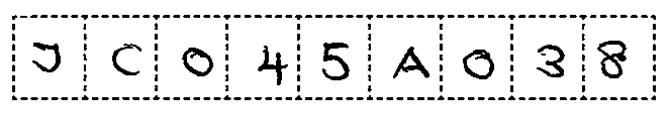0: (176, 42, 219, 86), (455, 45, 497, 83)
3: (530, 39, 571, 84)
4: (254, 39, 293, 91)
5: (312, 33, 354, 85)
8: (595, 36, 631, 82)
A: (387, 41, 435, 86)
C: (105, 39, 147, 81)
J: (26, 36, 68, 80)
